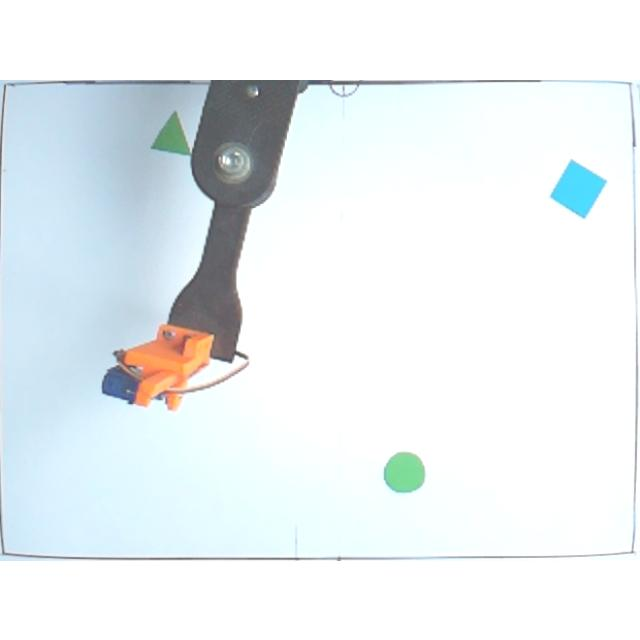blueSquare: (548, 157, 608, 217)
greenCircle: (384, 448, 426, 494)
greenTriangle: (150, 109, 192, 158)
